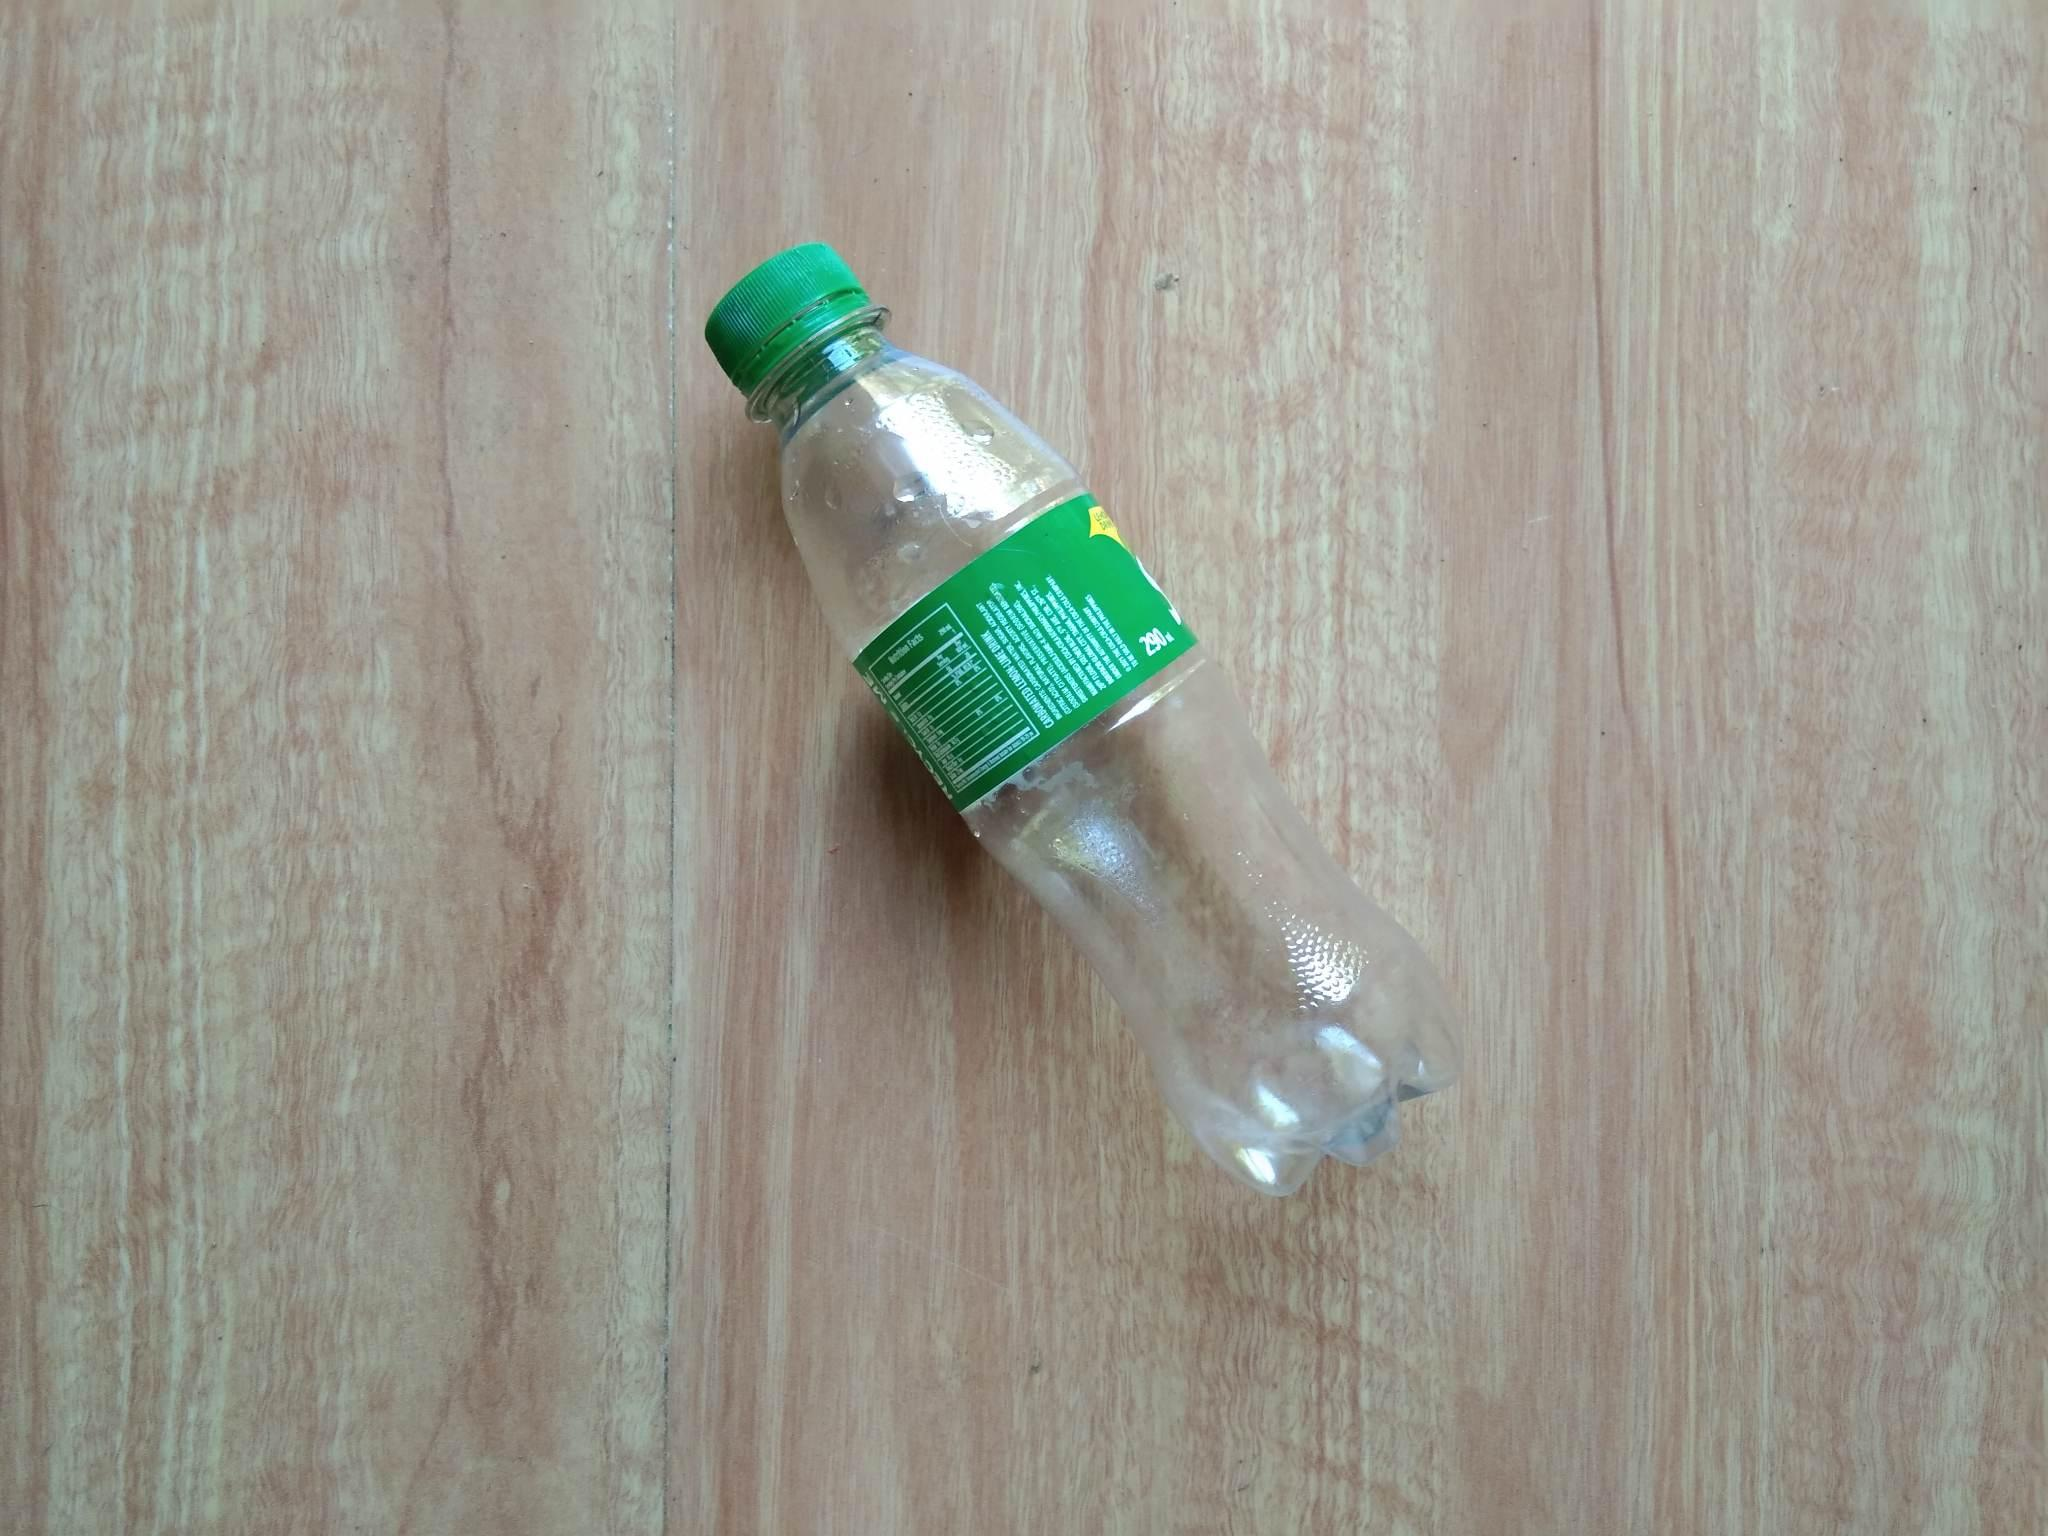plastic: (485, 203, 1613, 1313)
